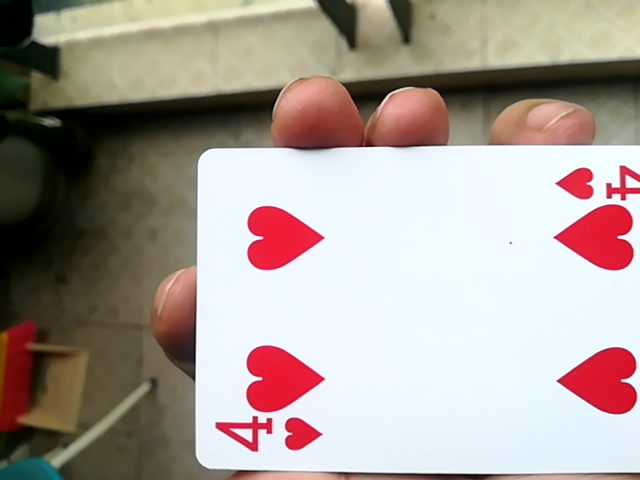hx 4: (203, 136, 640, 479)
